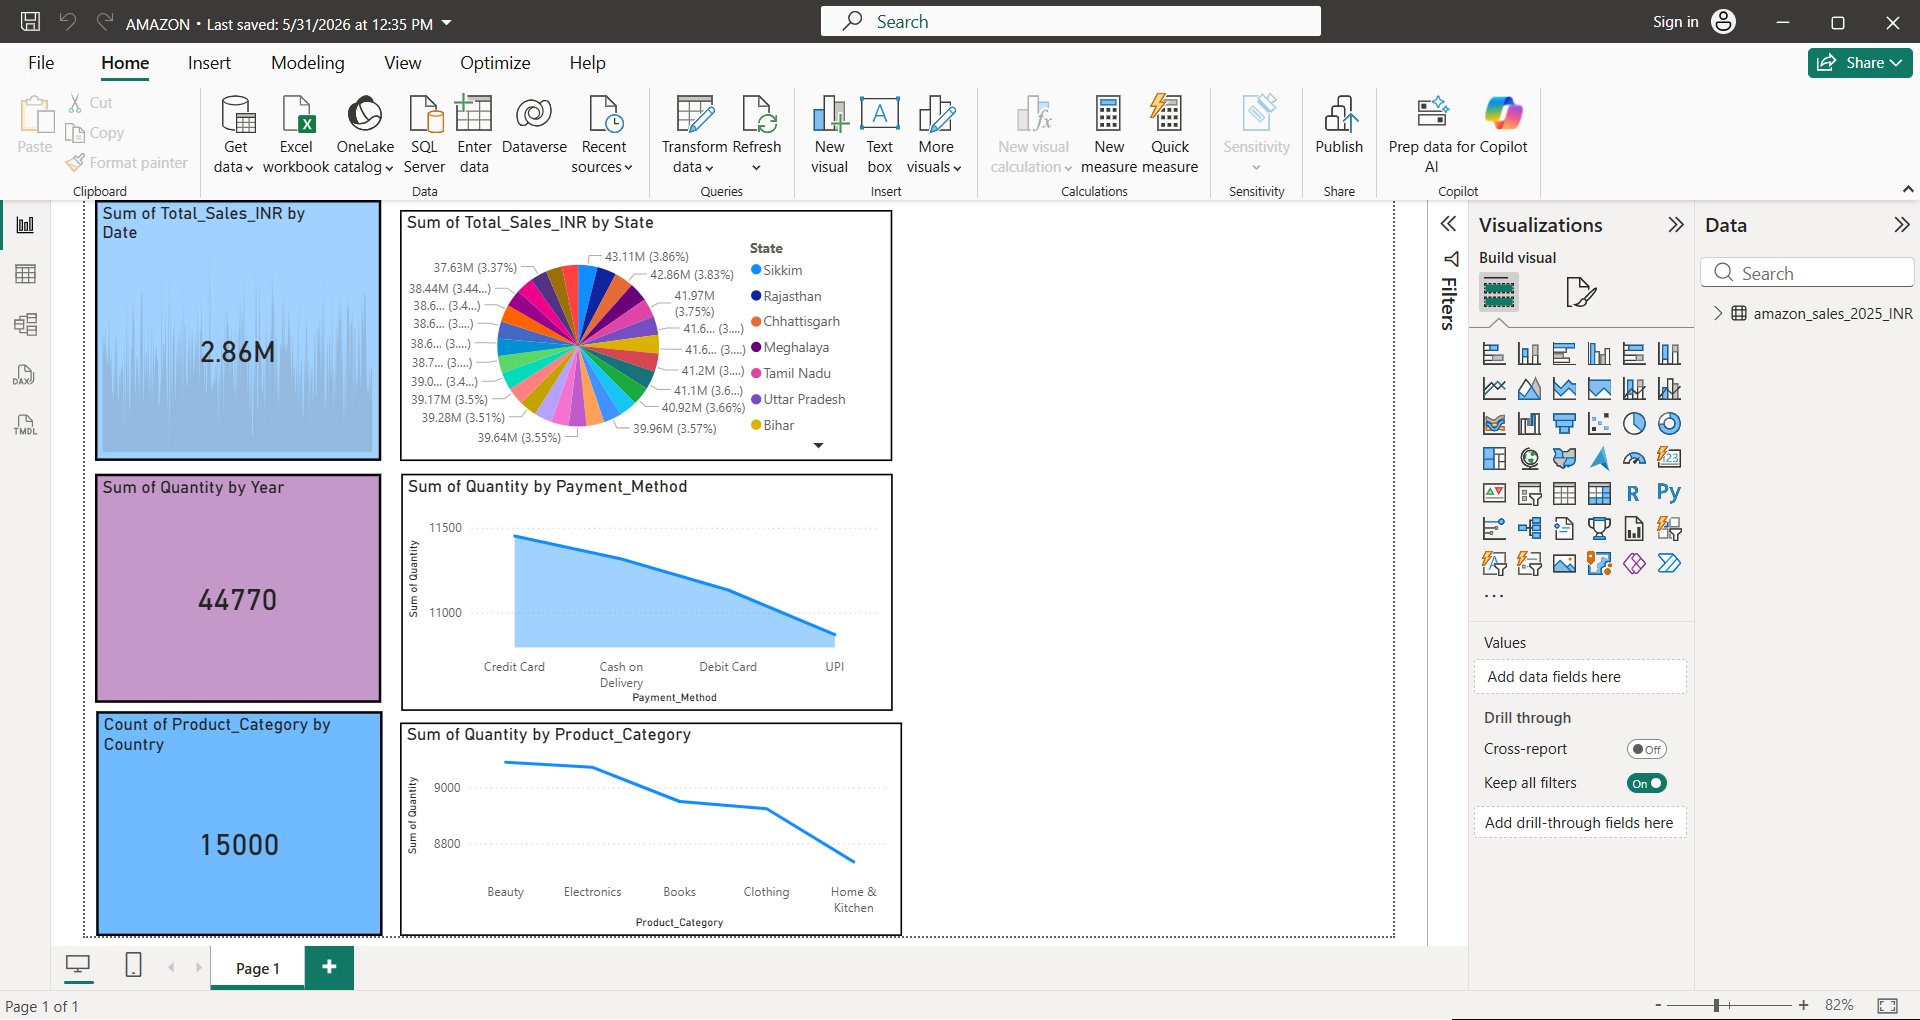

The page's visual inventory and layout, read from the dashboard file:
{"tool":"powerbi","page":{"name":"Page 1","canvas":[1280,720],"ordinal":0},"visuals":[{"type":"kpi","fields":{"Indicator":["Sum(amazon_sales_2025_INR.Total_Sales_INR)"],"TrendLine":["amazon_sales_2025_INR.Date"]},"box":[9.8,0,280,255.6],"z":0},{"type":"kpi","fields":{"Indicator":["Sum(amazon_sales_2025_INR.Quantity)"],"TrendLine":["amazon_sales_2025_INR.Date.Variation.Date Hierarchy.Year"]},"box":[9.8,267.8,280,223.8],"z":1000},{"type":"kpi","fields":{"Indicator":["CountNonNull(amazon_sales_2025_INR.Product_Category)"],"TrendLine":["amazon_sales_2025_INR.Country"]},"box":[11,500.1,280,220.1],"z":2000},{"type":"pieChart","fields":{"Y":["Sum(amazon_sales_2025_INR.Total_Sales_INR)"],"Category":["amazon_sales_2025_INR.State"]},"box":[308.2,9.8,481.8,245.8],"z":3000},{"type":"stackedAreaChart","fields":{"Y":["Sum(amazon_sales_2025_INR.Quantity)"],"Category":["amazon_sales_2025_INR.Payment_Method"]},"box":[309.4,267.8,480.6,232.3],"z":4000},{"type":"lineChart","fields":{"Category":["amazon_sales_2025_INR.Product_Category"],"Y":["Sum(amazon_sales_2025_INR.Quantity)"]},"box":[308.2,511.1,491.6,209.1],"z":5000}]}

Visuals, with their boxes on the page's 1280x720 design canvas (x1, y1, x2, y2). These are canvas units, not pixel positions in the 1920x1020 screenshot, which may show the page scaled, cropped or inside an application window:
kpi - Sum(amazon_sales_2025_INR.Total_Sales_INR) x amazon_sales_2025_INR.Date: Rect(10, 0, 290, 256)
kpi - Sum(amazon_sales_2025_INR.Quantity) x amazon_sales_2025_INR.Date.Variation.Date Hierarchy.Year: Rect(10, 268, 290, 492)
kpi - CountNonNull(amazon_sales_2025_INR.Product_Category) x amazon_sales_2025_INR.Country: Rect(11, 500, 291, 720)
pieChart - Sum(amazon_sales_2025_INR.Total_Sales_INR) x amazon_sales_2025_INR.State: Rect(308, 10, 790, 256)
stackedAreaChart - Sum(amazon_sales_2025_INR.Quantity) x amazon_sales_2025_INR.Payment_Method: Rect(309, 268, 790, 500)
lineChart - amazon_sales_2025_INR.Product_Category x Sum(amazon_sales_2025_INR.Quantity): Rect(308, 511, 800, 720)
